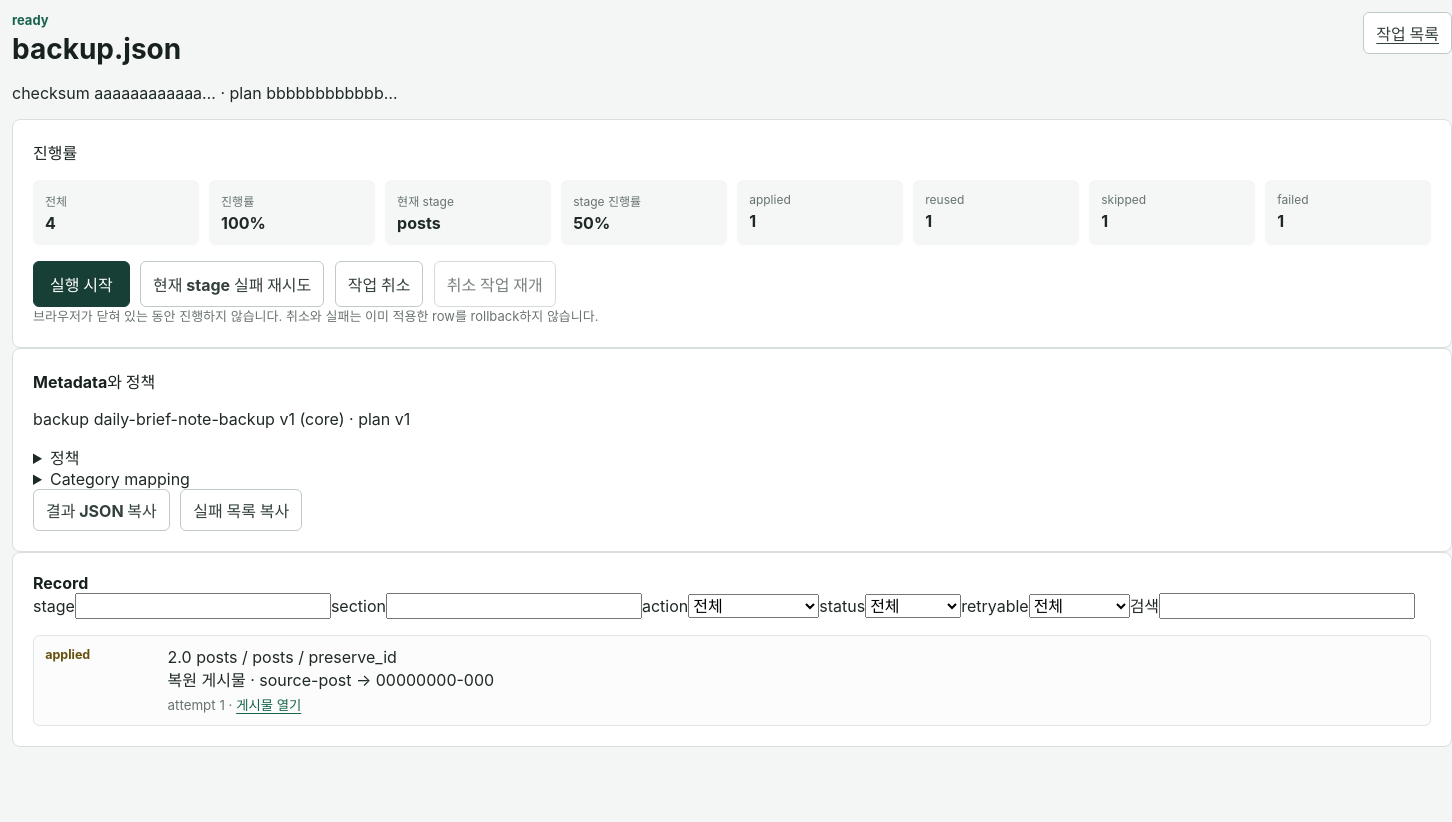
Test: BackupRestoreJobDetailPage › 네트워크 응답 유실 시 안전한 재조회 안내를 표시한다
What coordinates should you click on to do the following:
click the button "실행 시작"
I would click on:
 (81, 284)
Its box is [33,261,130,307].
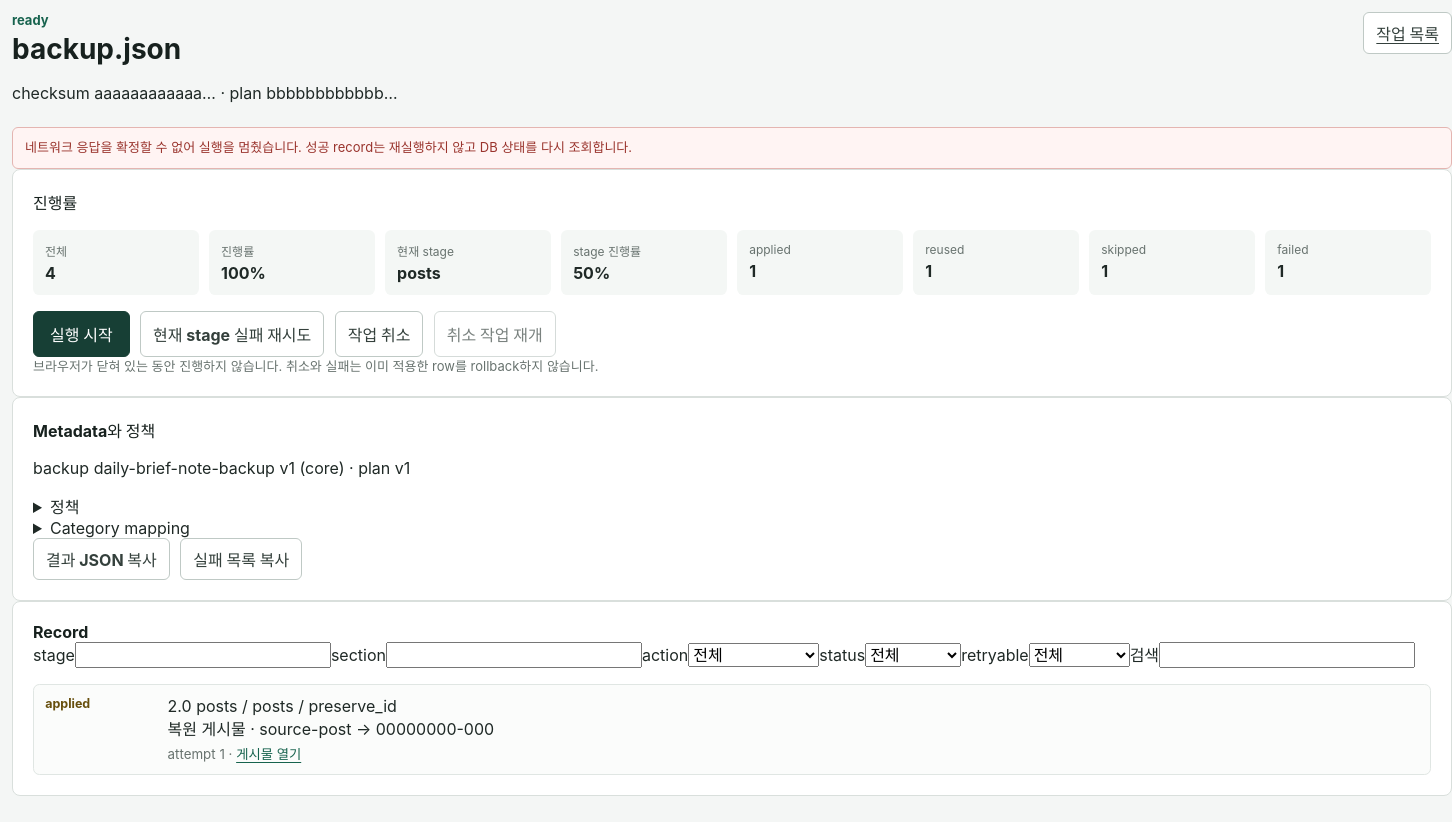
Result: the message shows "네트워크 응답을 확정할 수 없어" at [25,139,632,155]
